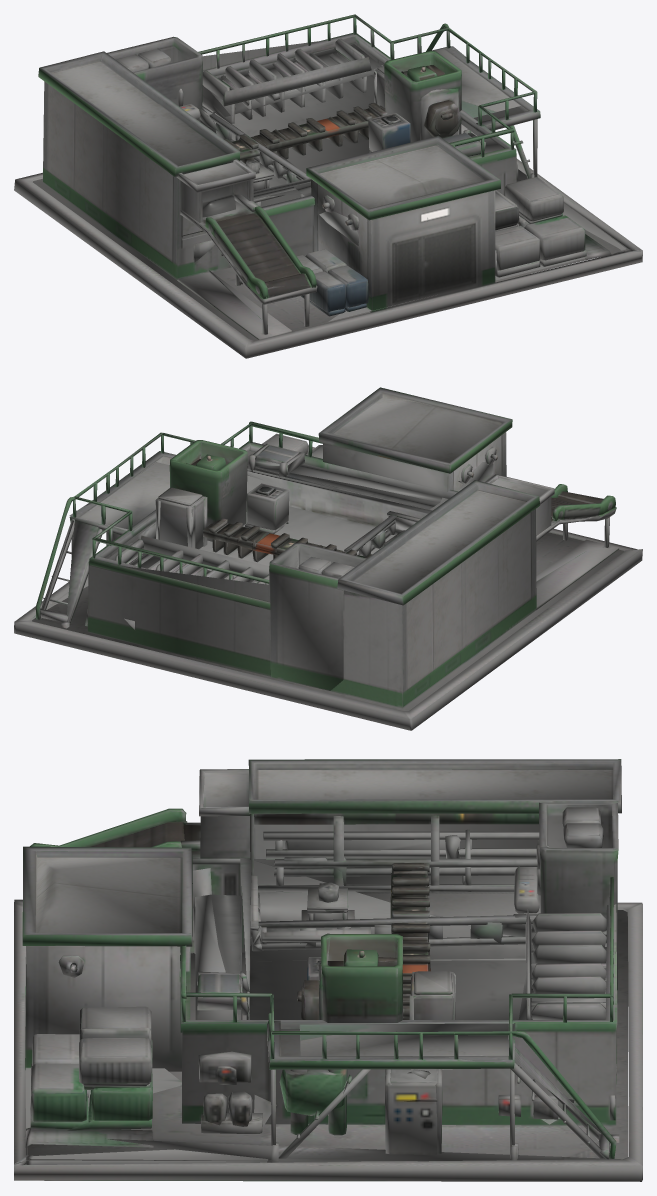
The model's file is Geri Dönüşüm.fbx.
The picture shows the model from 3 angles, top to bottom: view 1: azimuth 30°, elevation 25°; view 2: azimuth 150°, elevation 25°; view 3: azimuth 270°, elevation 25°; orthographic projection. The views are drawn at different scales.
Visible parts, largest first — view 1: Mesh_0; view 2: Mesh_0; view 3: Mesh_0.
Boxes of the visible parts, left/top/right/bottom form: Mesh_0: left=14, top=14, right=642, bottom=358; Mesh_0: left=14, top=387, right=642, bottom=730; Mesh_0: left=14, top=759, right=642, bottom=1181.
Bounding box in the file's own units: 99.59 × 30.23 × 100.
1 material, 1 textured.
